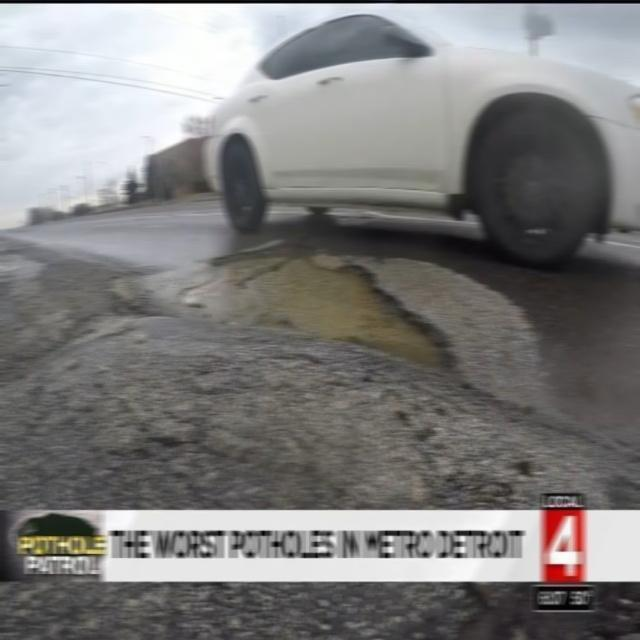Pothole: (159, 239, 460, 388)
